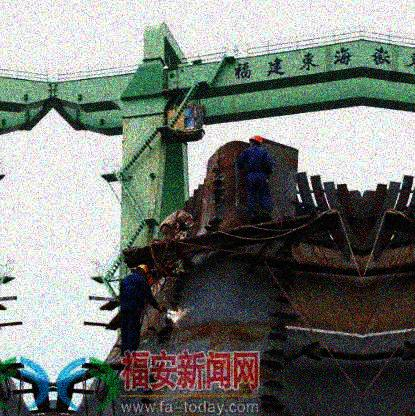helmet: (135, 263, 149, 280), (249, 134, 263, 150)
